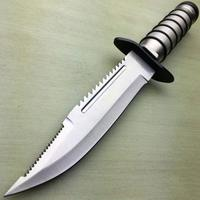knife: (4, 8, 193, 198)
